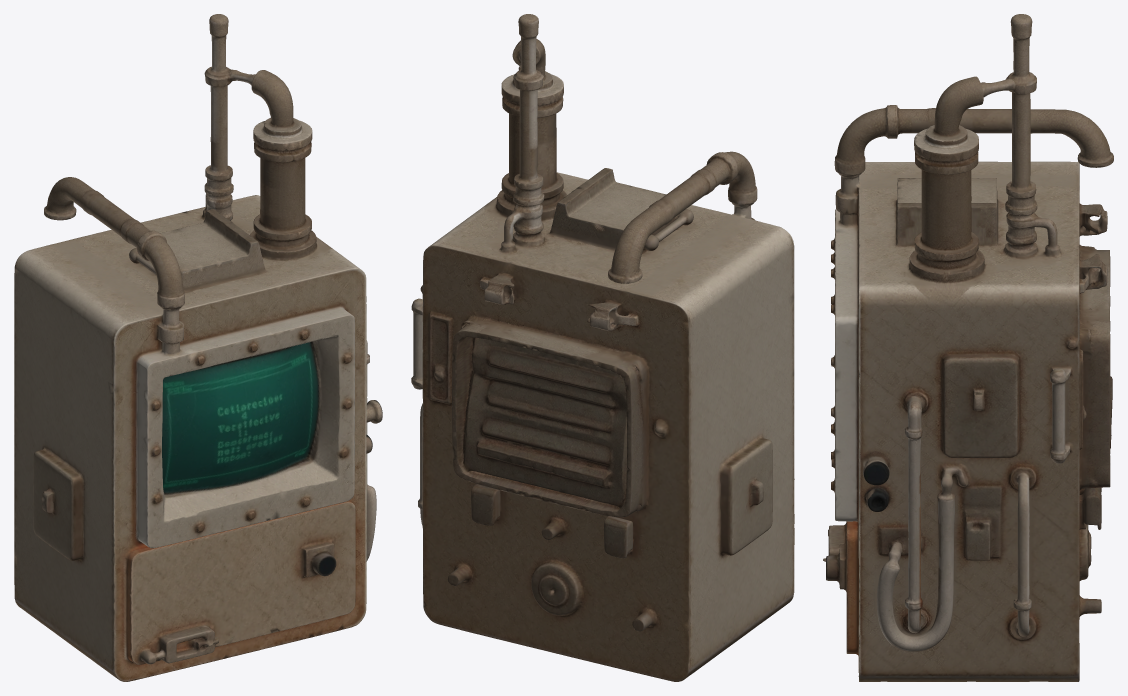
The model's file is Meshy_AI_a_old_rusty_grungy_co_1009171440_texture.fbx.
3 renders of one model, left to right at view 1: azimuth 30°, elevation 25°; view 2: azimuth 150°, elevation 25°; view 3: azimuth 270°, elevation 25°, orthographic. The views are drawn at different scales.
Visible parts, largest first — view 1: Mesh_0; view 2: Mesh_0; view 3: Mesh_0.
Part boxes in pixels (bbox=[...]): Mesh_0: bbox=[14, 14, 382, 681]; Mesh_0: bbox=[411, 14, 794, 681]; Mesh_0: bbox=[823, 14, 1113, 681].
Bounding box in the file's own units: 105 × 190 × 79.25.
Materials: 1 (1 with a texture image).
